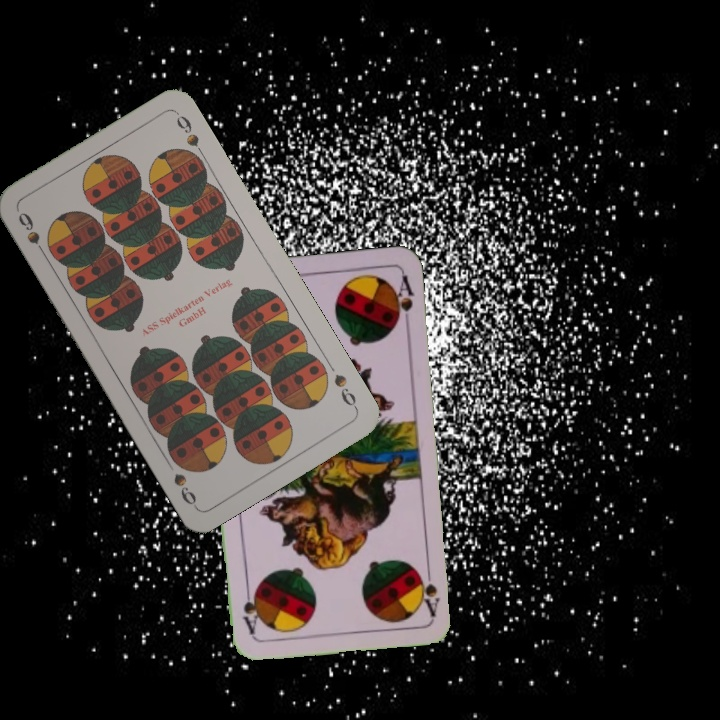S9: (14, 207, 50, 261), (329, 370, 360, 412)
SA: (416, 559, 442, 618)
